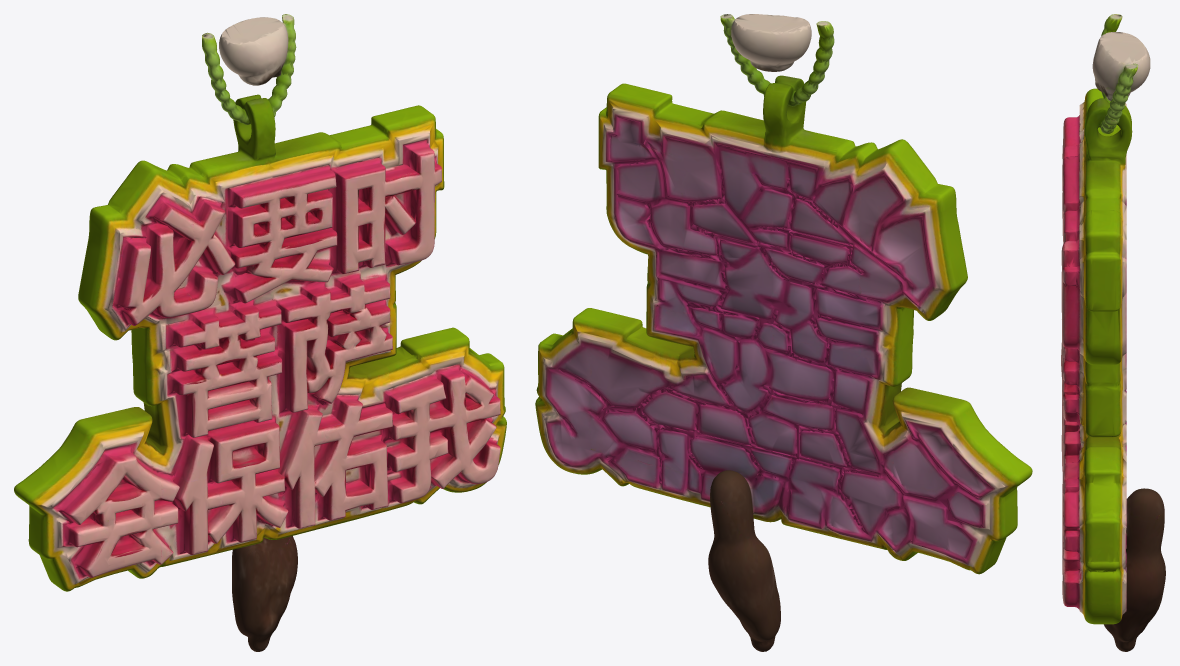
Rendered from charm.glb.
The picture shows the model from 3 angles, left to right: view 1: azimuth 30°, elevation 25°; view 2: azimuth 150°, elevation 25°; view 3: azimuth 270°, elevation 25°; orthographic projection. The views are drawn at different scales.
Parts seen in each view (by area): view 1: geometry_0; view 2: geometry_0; view 3: geometry_0.
Boxes of the visible parts, x1,y1,x2,y2 form: geometry_0: (14, 14, 506, 651); geometry_0: (535, 14, 1032, 651); geometry_0: (1061, 14, 1165, 651).
Size of the model in its own units: 0.7942 by 0.9998 by 0.1561.
1 material, 1 textured.
